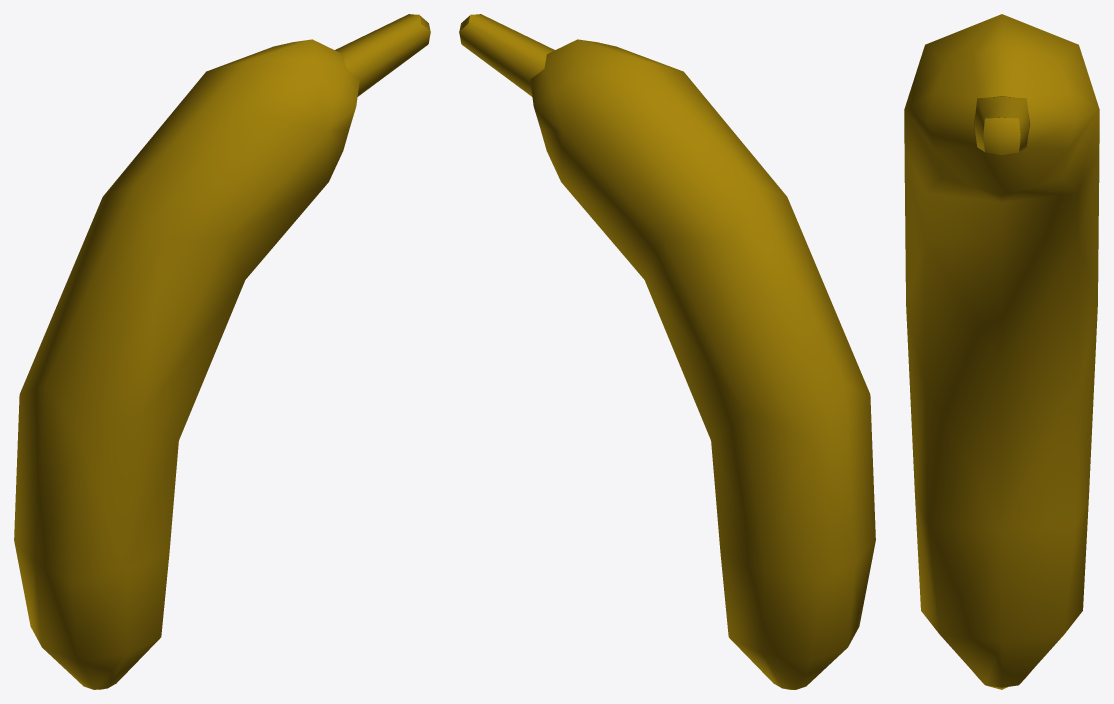
The model's file is banana.obj.
The picture shows the model from 3 angles, left to right: view 1: azimuth 30°, elevation 25°; view 2: azimuth 150°, elevation 25°; view 3: azimuth 270°, elevation 25°; orthographic projection. The views are drawn at different scales.
Visible parts, largest first — view 1: Cube, Cube.001; view 2: Cube, Cube.001; view 3: Cube, Cube.001.
Boxes of the visible parts, x1,y1,x2,y2 form: Cube: (14, 14, 430, 689); Cube.001: (335, 14, 430, 96); Cube: (459, 14, 875, 689); Cube.001: (459, 14, 554, 96); Cube: (904, 14, 1099, 687); Cube.001: (974, 96, 1029, 154).
Bounding box in the file's own units: 1.42 × 2.06 × 0.4693.
